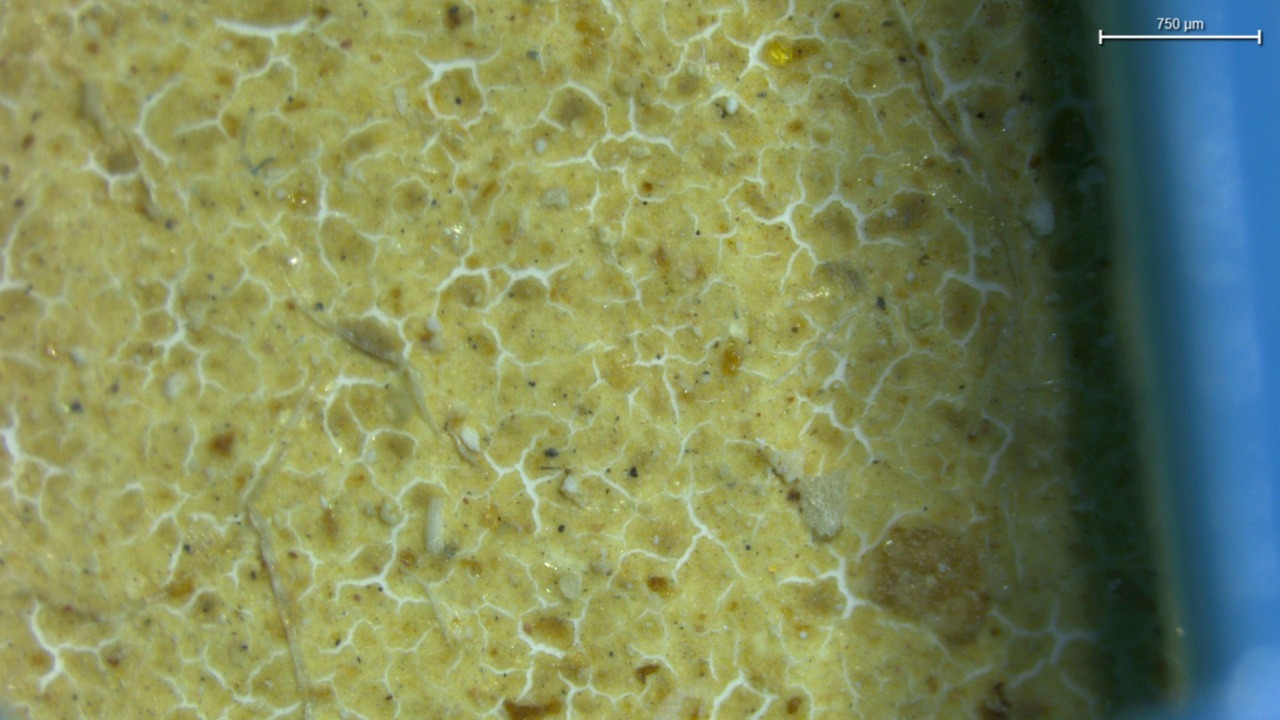microplastic_fragment: (797, 472, 847, 539)
